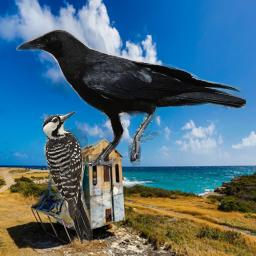Crow: (16, 27, 246, 166)
Woodpecker: (42, 111, 93, 245)
